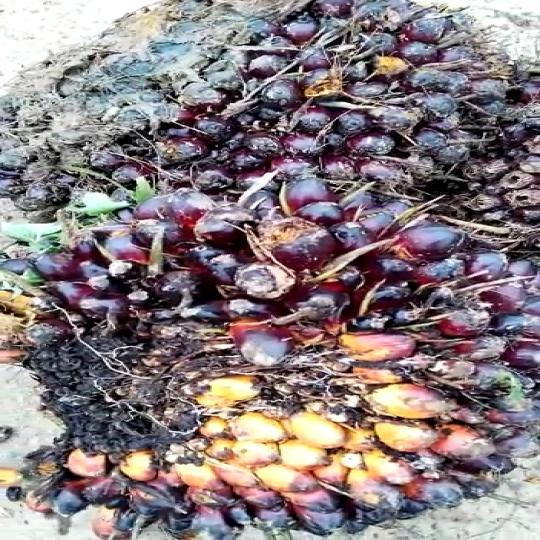kurang masak: (0, 222, 540, 540), (0, 0, 540, 207)
